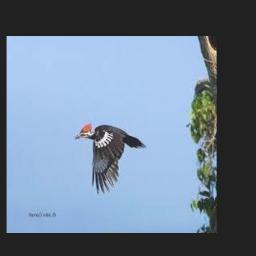Woodpecker: (75, 122, 147, 194)
